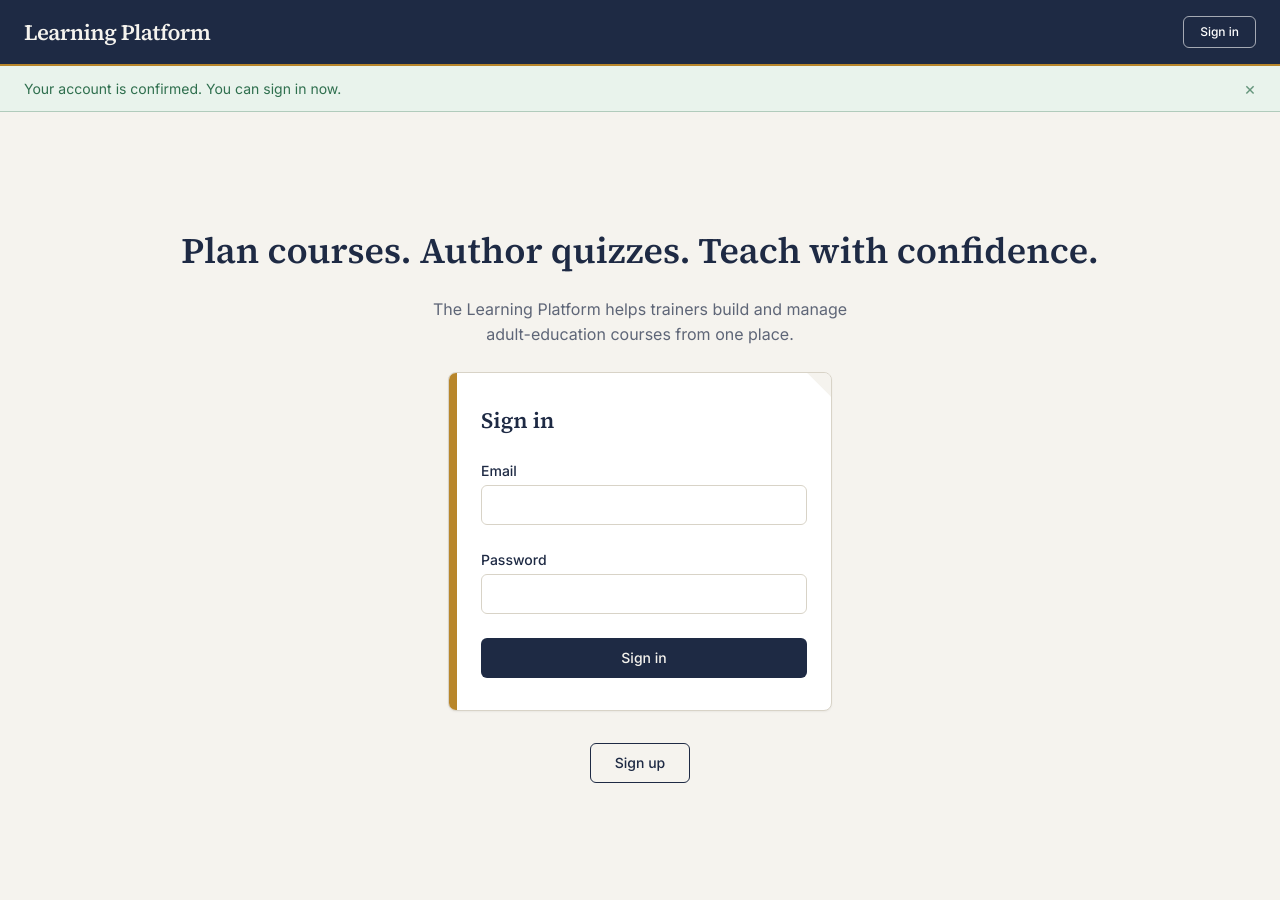
App confirm-outcome banner (AUTH-UX-001) › dismisses the banner when its close button is clicked
Click the button named "dismiss": (1250,88) [1244,80,1256,98]
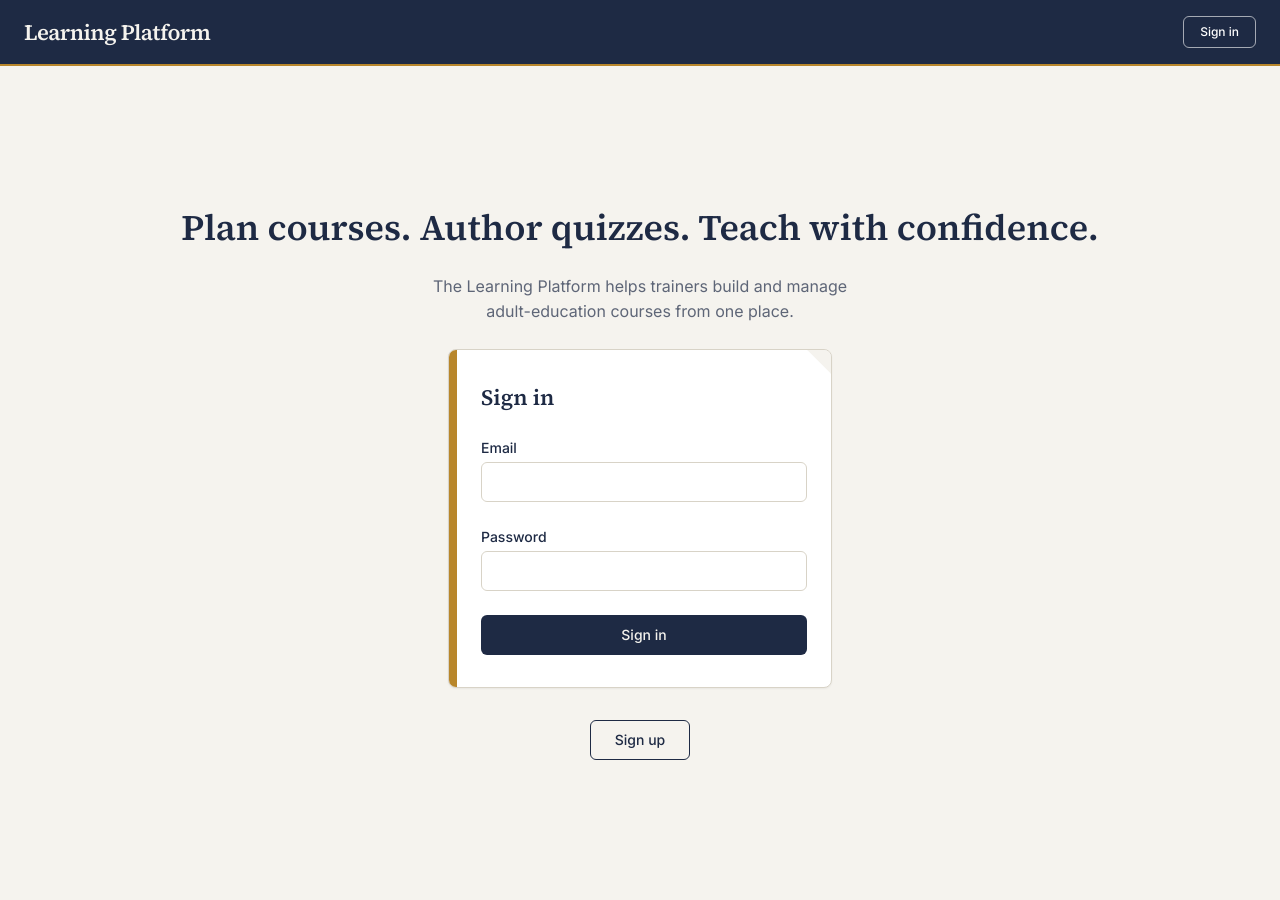
Expected: the message "Your account is confirmed. You can sign in now. ×" is gone
